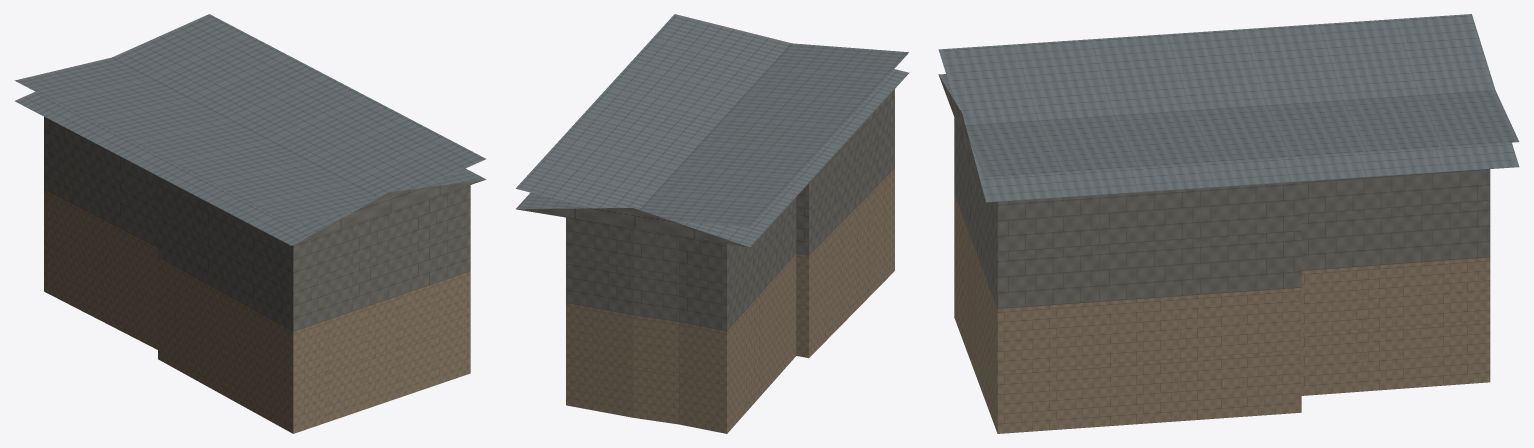
File: bld_c10_20_425.gltf
3 views of the same model, side by side, from view 1: azimuth 30°, elevation 25°; view 2: azimuth 150°, elevation 25°; view 3: azimuth 270°, elevation 25° (orthographic). The views are drawn at different scales.
Parts seen in each view (by area): view 1: bld_c10_20_425; view 2: bld_c10_20_425; view 3: bld_c10_20_425.
Part boxes in pixels (x1,y1,x2,y2): bld_c10_20_425: [14, 14, 486, 433]; bld_c10_20_425: [516, 14, 909, 433]; bld_c10_20_425: [938, 14, 1519, 433].
Bounding box in the file's own units: 13.99 × 10.5 × 21.01.
Materials: 4 (4 with a texture image).
